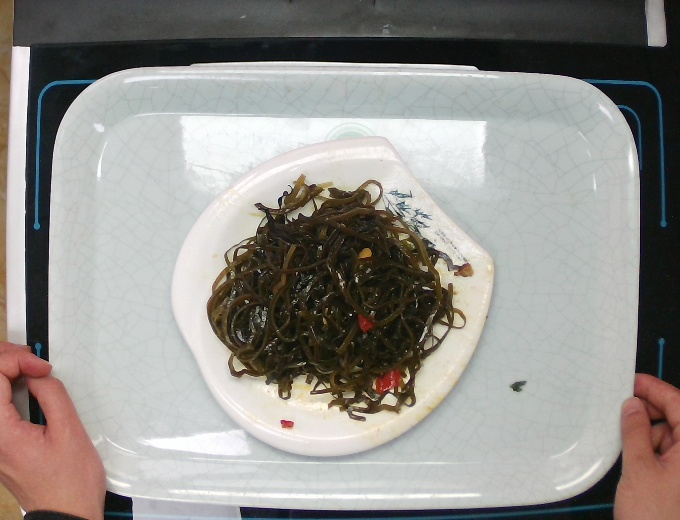JYsf-Mian_Pan: (168, 133, 496, 459)
